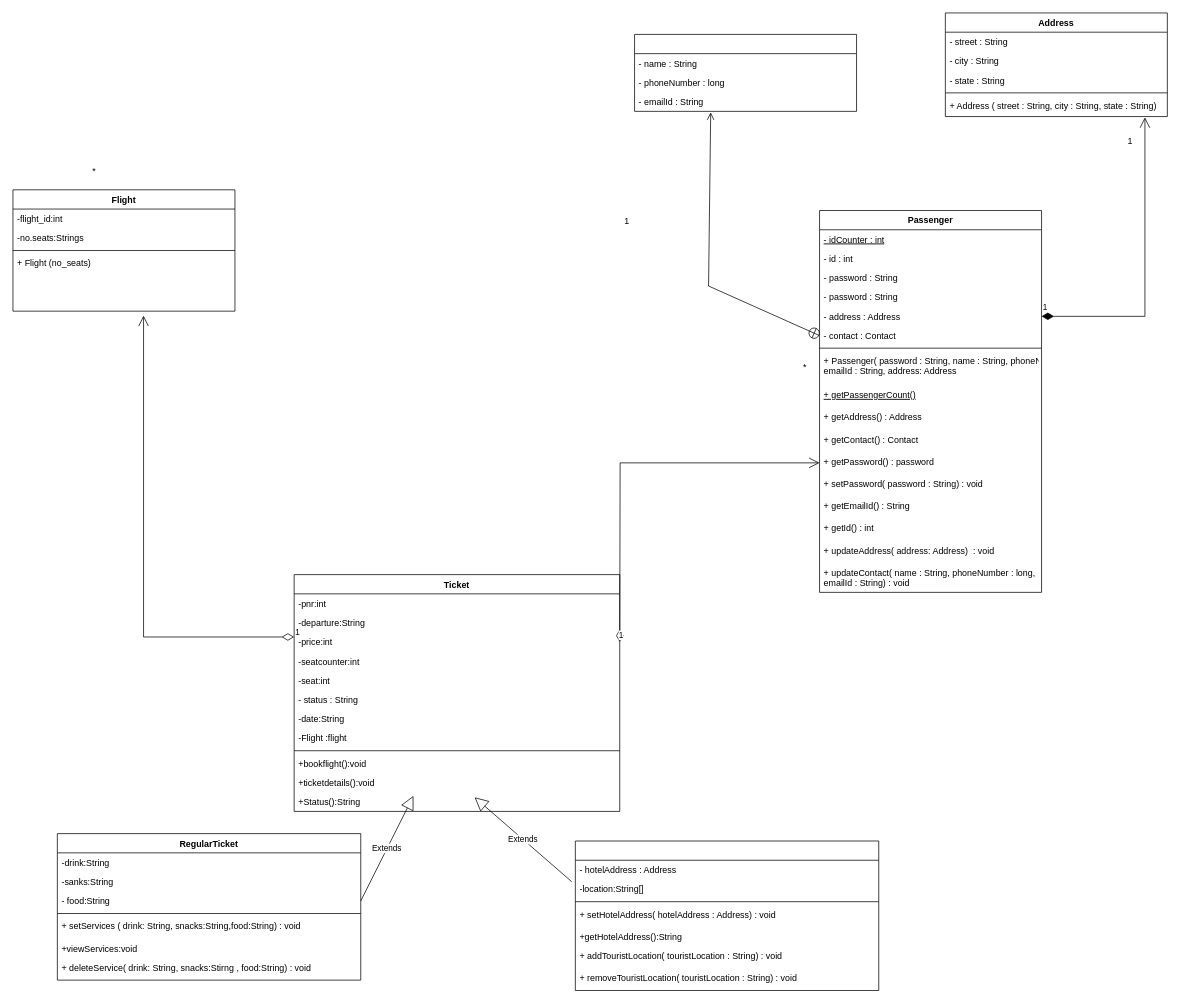
This 1180x1006 diagram has some shape labels left out. The box of each missing label's shape, as (x1, y1, x2, y2) in pixels:
Contact: (634, 34, 857, 111)
TouristTicket: (575, 840, 879, 990)
